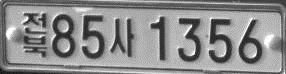1: (147, 16, 172, 60)
3: (177, 17, 201, 61)
5: (208, 18, 233, 63), (81, 14, 104, 59)
6: (237, 18, 262, 64)
8: (51, 13, 76, 58)
사: (109, 18, 134, 57)
전북_V: (22, 12, 47, 57)
